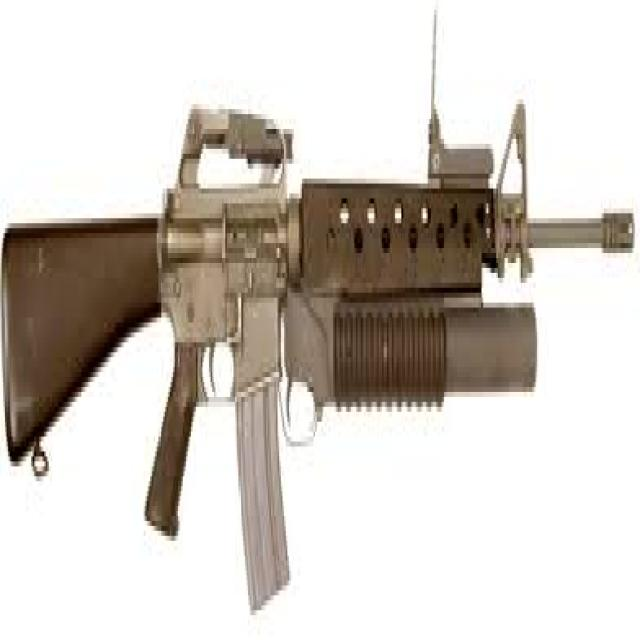rifle: (1, 1, 639, 628)
